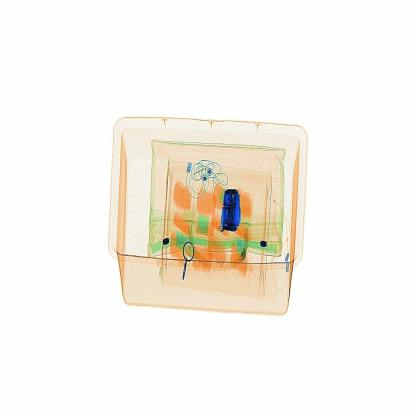scissors: (218, 188, 249, 239)
